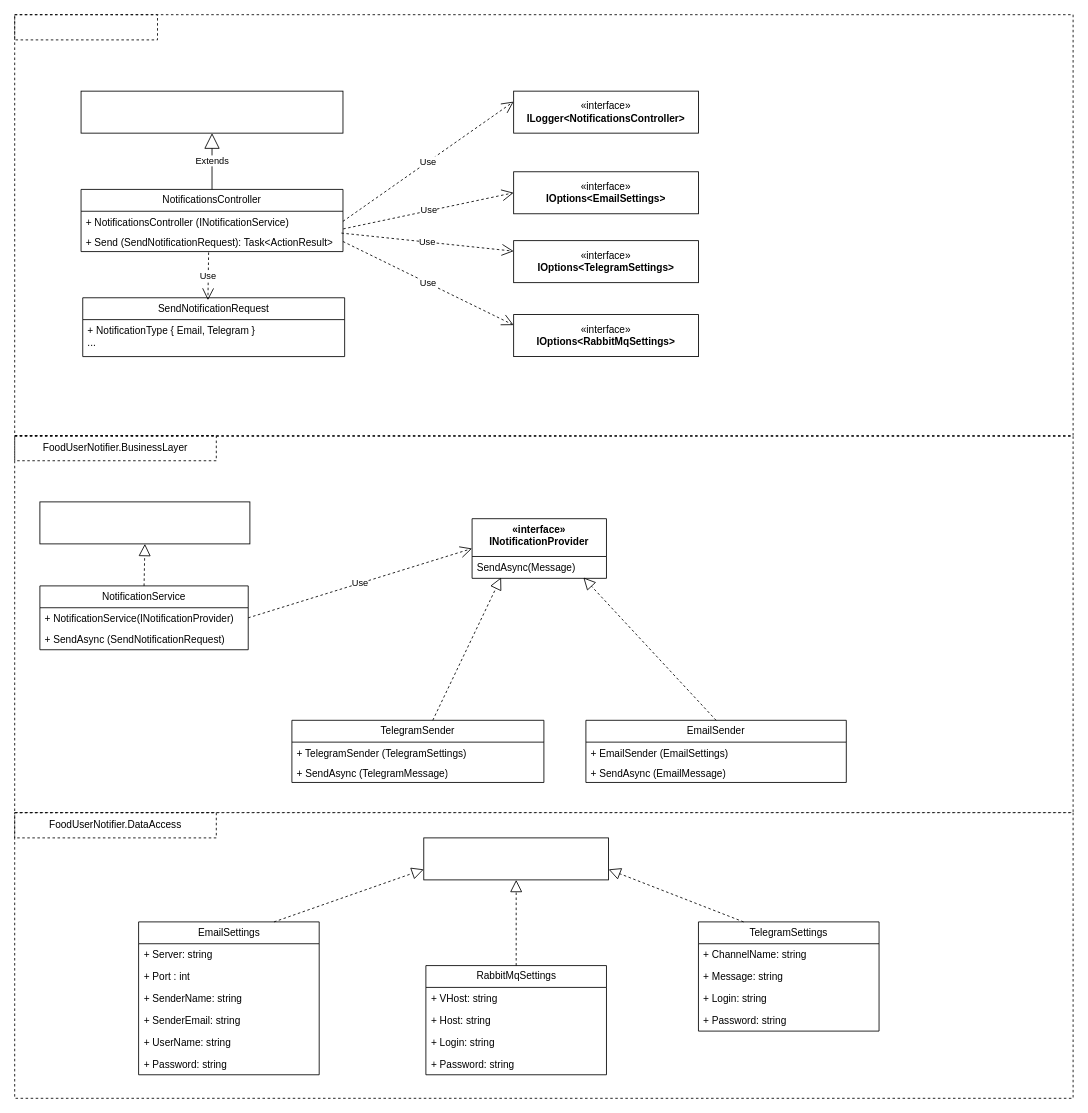
The diagram is 1088 pixels wide and 1113 high, and some of its shapes have lost their labels. Here are the shapes that lost their labels. From the top down, the centre of each, then its label:
the point at 86,27: FoodUserNotifier.WebAPI
the point at 211,111: ControllerBase
the point at 144,522: «interface» INotificationService
the point at 516,858: «interface» IOptions
